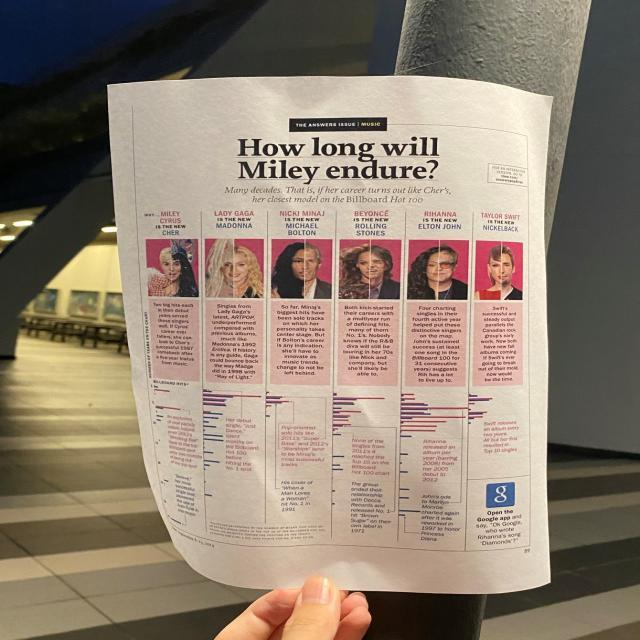document: (108, 76, 551, 594)
